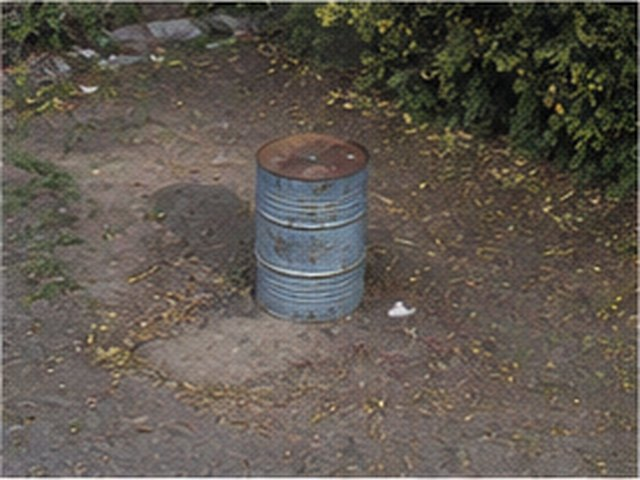container: (255, 133, 367, 320)
